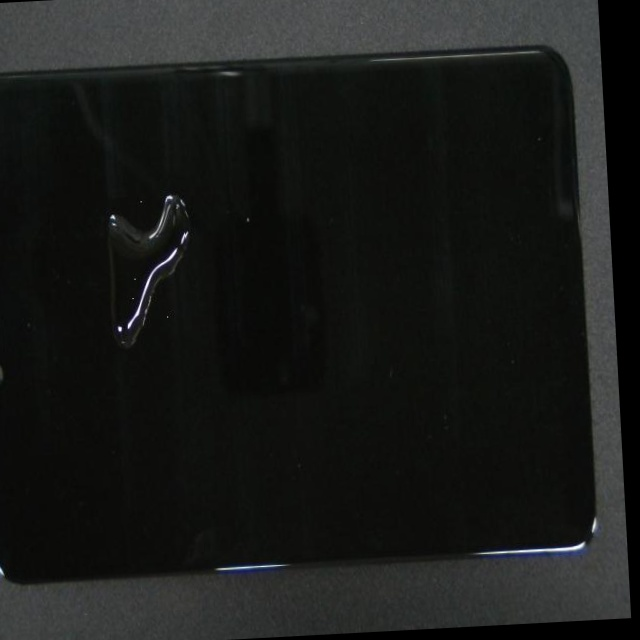oil: (63, 120, 234, 358)
